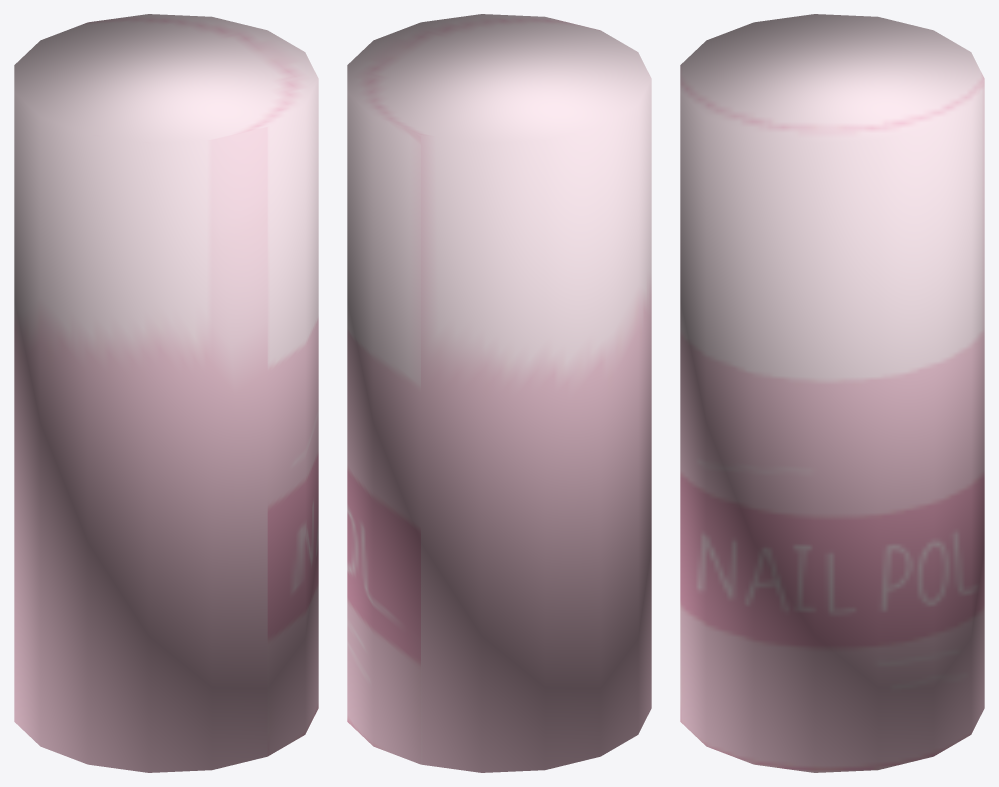
The model's file is nail_pol_pink.glb.
3 renders of one model, left to right at view 1: azimuth 30°, elevation 25°; view 2: azimuth 150°, elevation 25°; view 3: azimuth 270°, elevation 25°, orthographic.
Visible parts, largest first — view 1: Cylinder; view 2: Cylinder; view 3: Cylinder.
Boxes of the visible parts, box(x1,y1,x2,y2) form: Cylinder: box(14, 14, 318, 772); Cylinder: box(347, 14, 651, 772); Cylinder: box(680, 14, 984, 772).
Bounding box in the file's own units: 1.99 × 4.52 × 1.98.
1 material, 1 textured.
